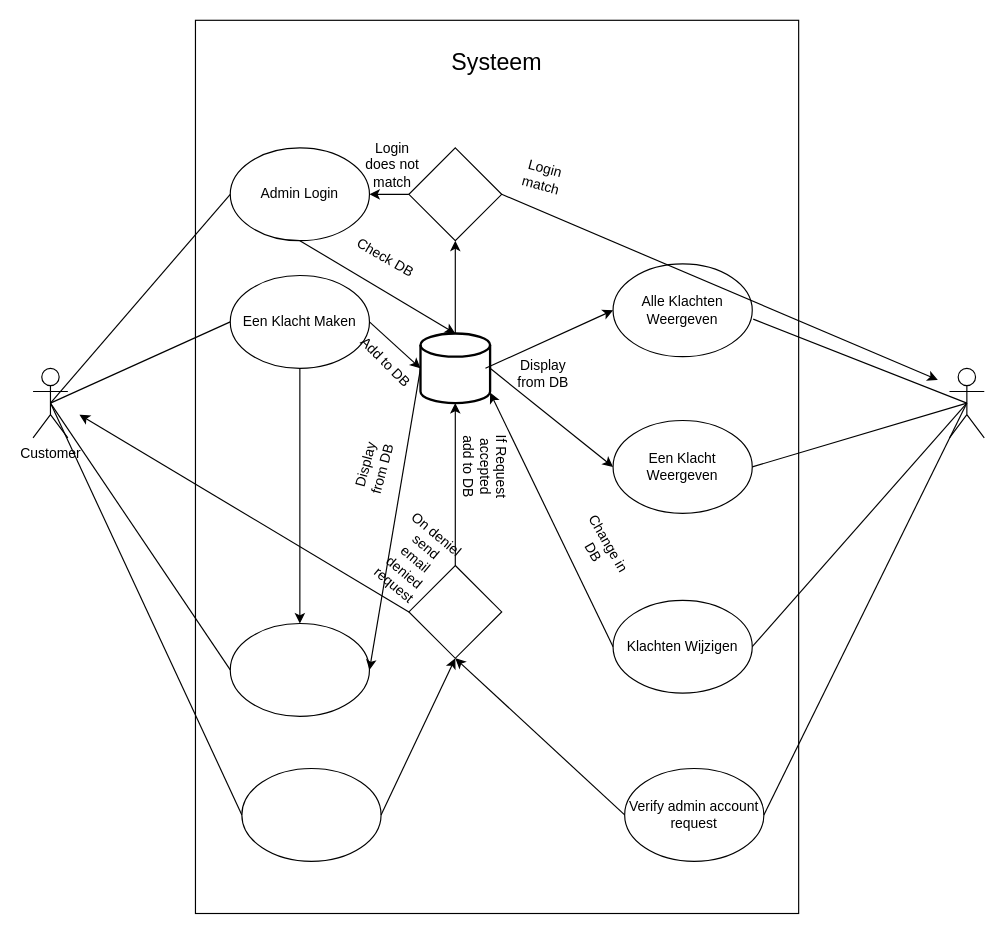
The diagram is 1006 pixels wide and 934 high, and some of its shapes have lost their labels. Each missing label, with the centre of its shape:
"Admin" belongs at (966,402).
"Admin Account Request" belongs at (311,814).
"Eigen Klachten Zien" belongs at (299,669).
